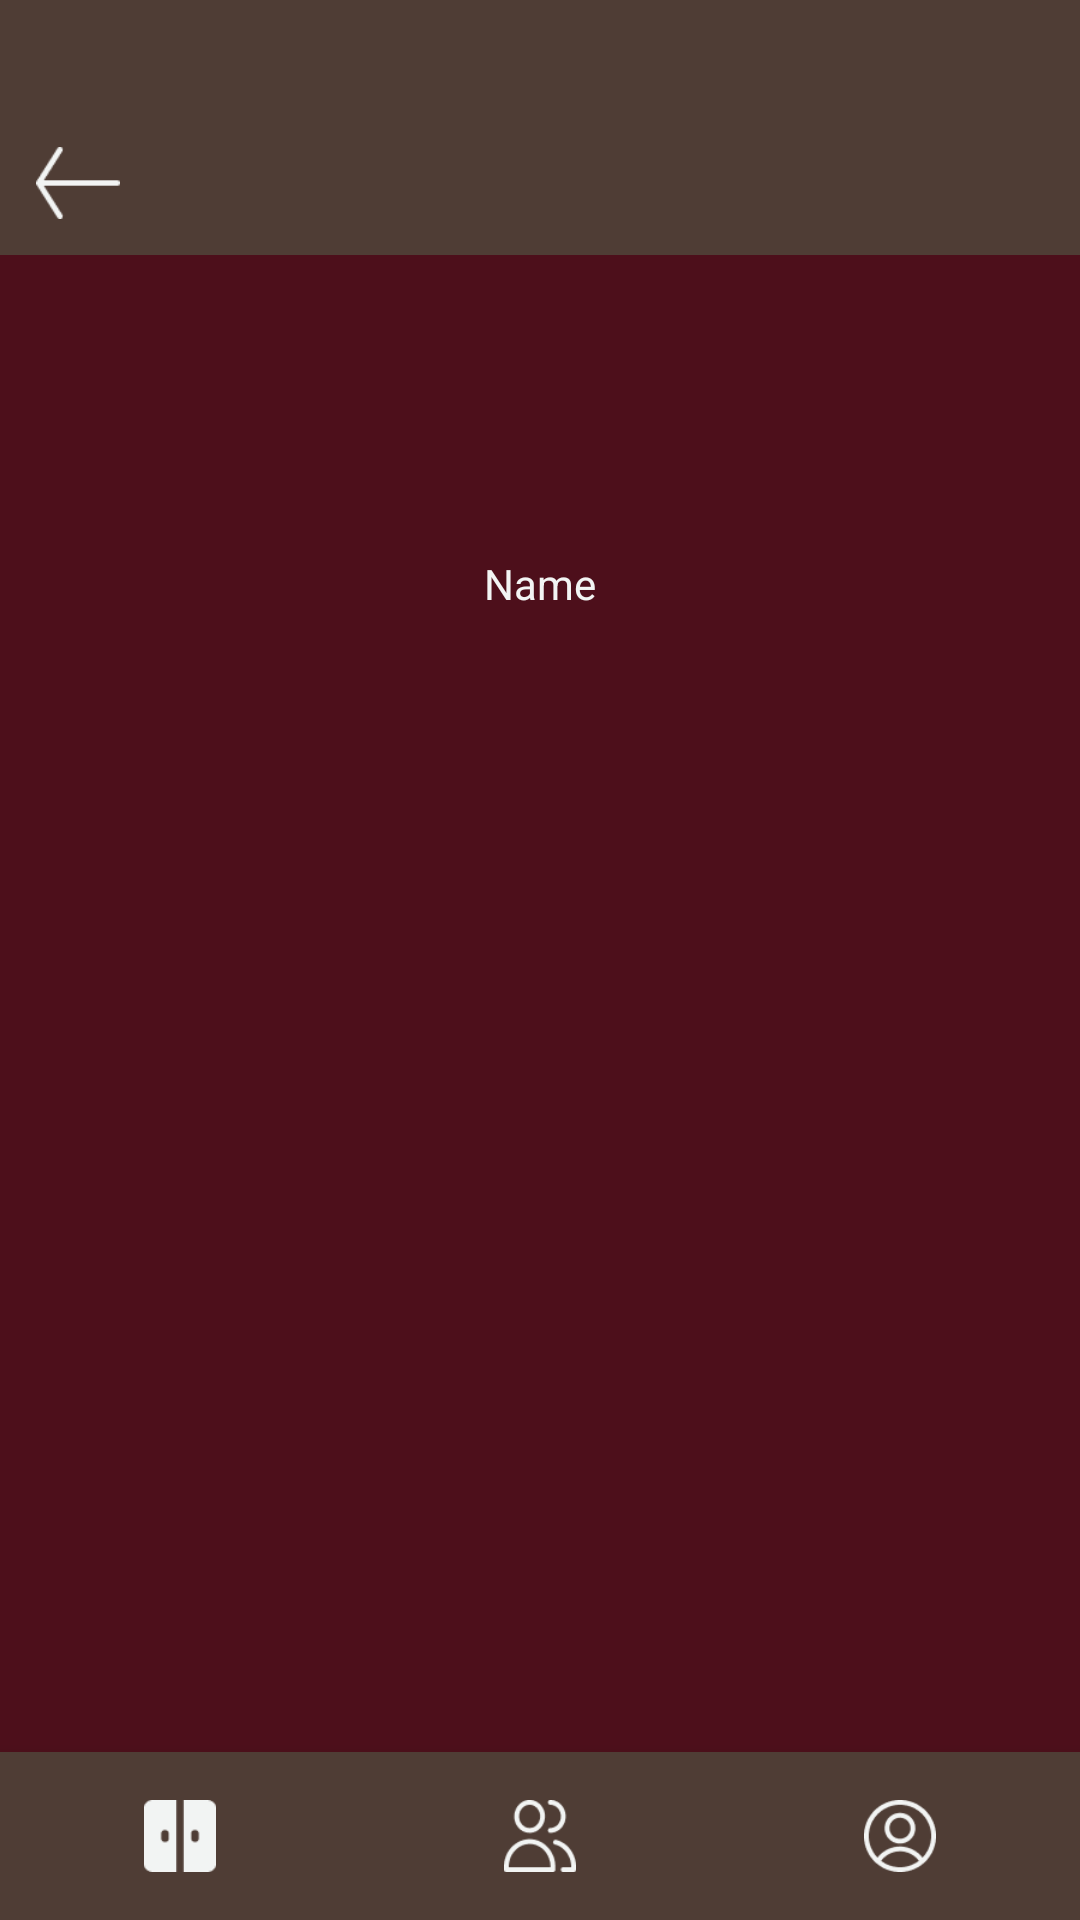

Where icons sit on this 1080px x 1920px app screen, as [x1, y1, x2, y2]:
Back: [36, 147, 120, 219]
